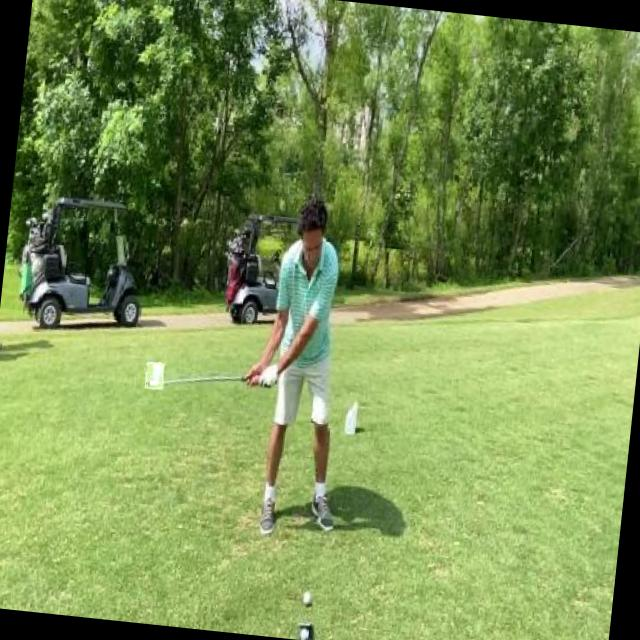club head: (144, 361, 165, 390)
